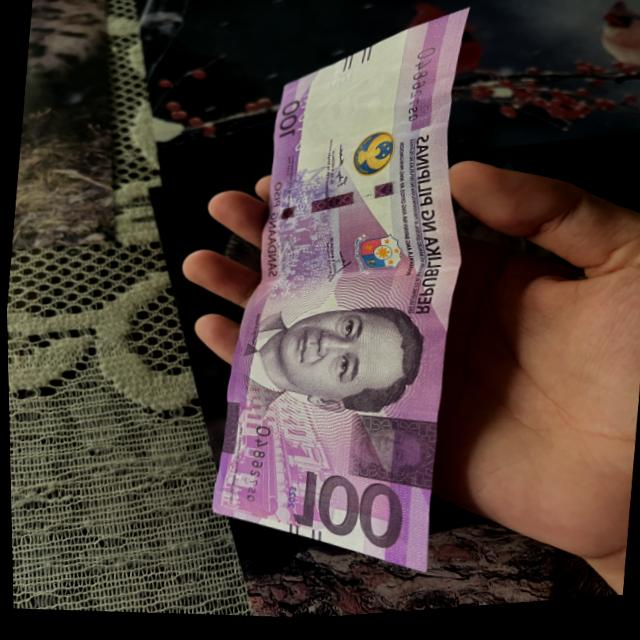concealed_value: (342, 413, 436, 502)
security_thread: (274, 177, 440, 224)
serial_number: (401, 50, 439, 132), (242, 427, 272, 509)
value: (286, 470, 403, 559)
